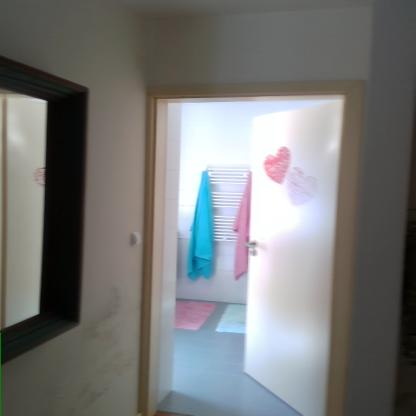semi: (136, 64, 372, 409)
